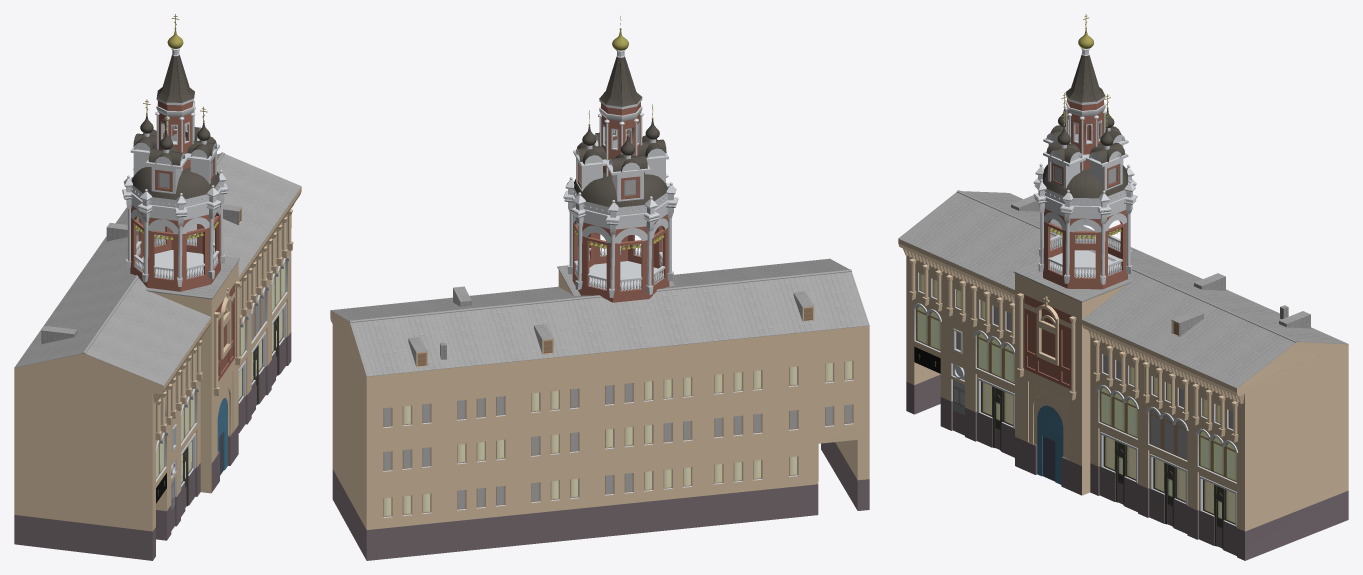
Rendered from StreetNikolskaya7-9.FBX.
3 views of the same model, side by side, from view 1: azimuth 30°, elevation 25°; view 2: azimuth 150°, elevation 25°; view 3: azimuth 270°, elevation 25° (orthographic). The views are drawn at different scales.
Parts seen in each view (by area): view 1: 01080-50@72758; view 2: 01080-50@72758; view 3: 01080-50@72758.
Part boxes in pixels (x1,y1,x2,y2): 01080-50@72758: [14, 14, 301, 560]; 01080-50@72758: [330, 16, 869, 560]; 01080-50@72758: [898, 14, 1348, 560].
Bounding box in the file's own units: 45 × 48.53 × 43.87.
Materials: 1 (1 with a texture image).
